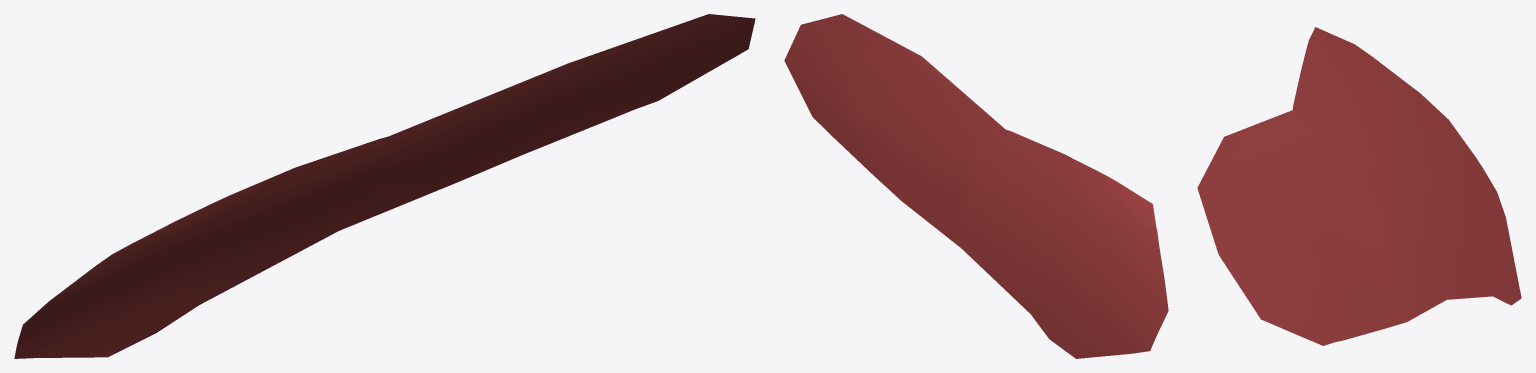
File: levatores-longi-costarum-e4r.glb
The picture shows the model from 3 angles, left to right: view 1: azimuth 30°, elevation 25°; view 2: azimuth 150°, elevation 25°; view 3: azimuth 270°, elevation 25°; orthographic projection. The views are drawn at different scales.
Visible parts, largest first — view 1: Levatores longi costarum.e4r; view 2: Levatores longi costarum.e4r; view 3: Levatores longi costarum.e4r.
Boxes of the visible parts, bbox=[...] form: Levatores longi costarum.e4r: bbox=[14, 14, 755, 358]; Levatores longi costarum.e4r: bbox=[784, 14, 1168, 358]; Levatores longi costarum.e4r: bbox=[1197, 27, 1521, 345].
Size of the model in its own units: 0.018 by 0.00831 by 0.00585.
